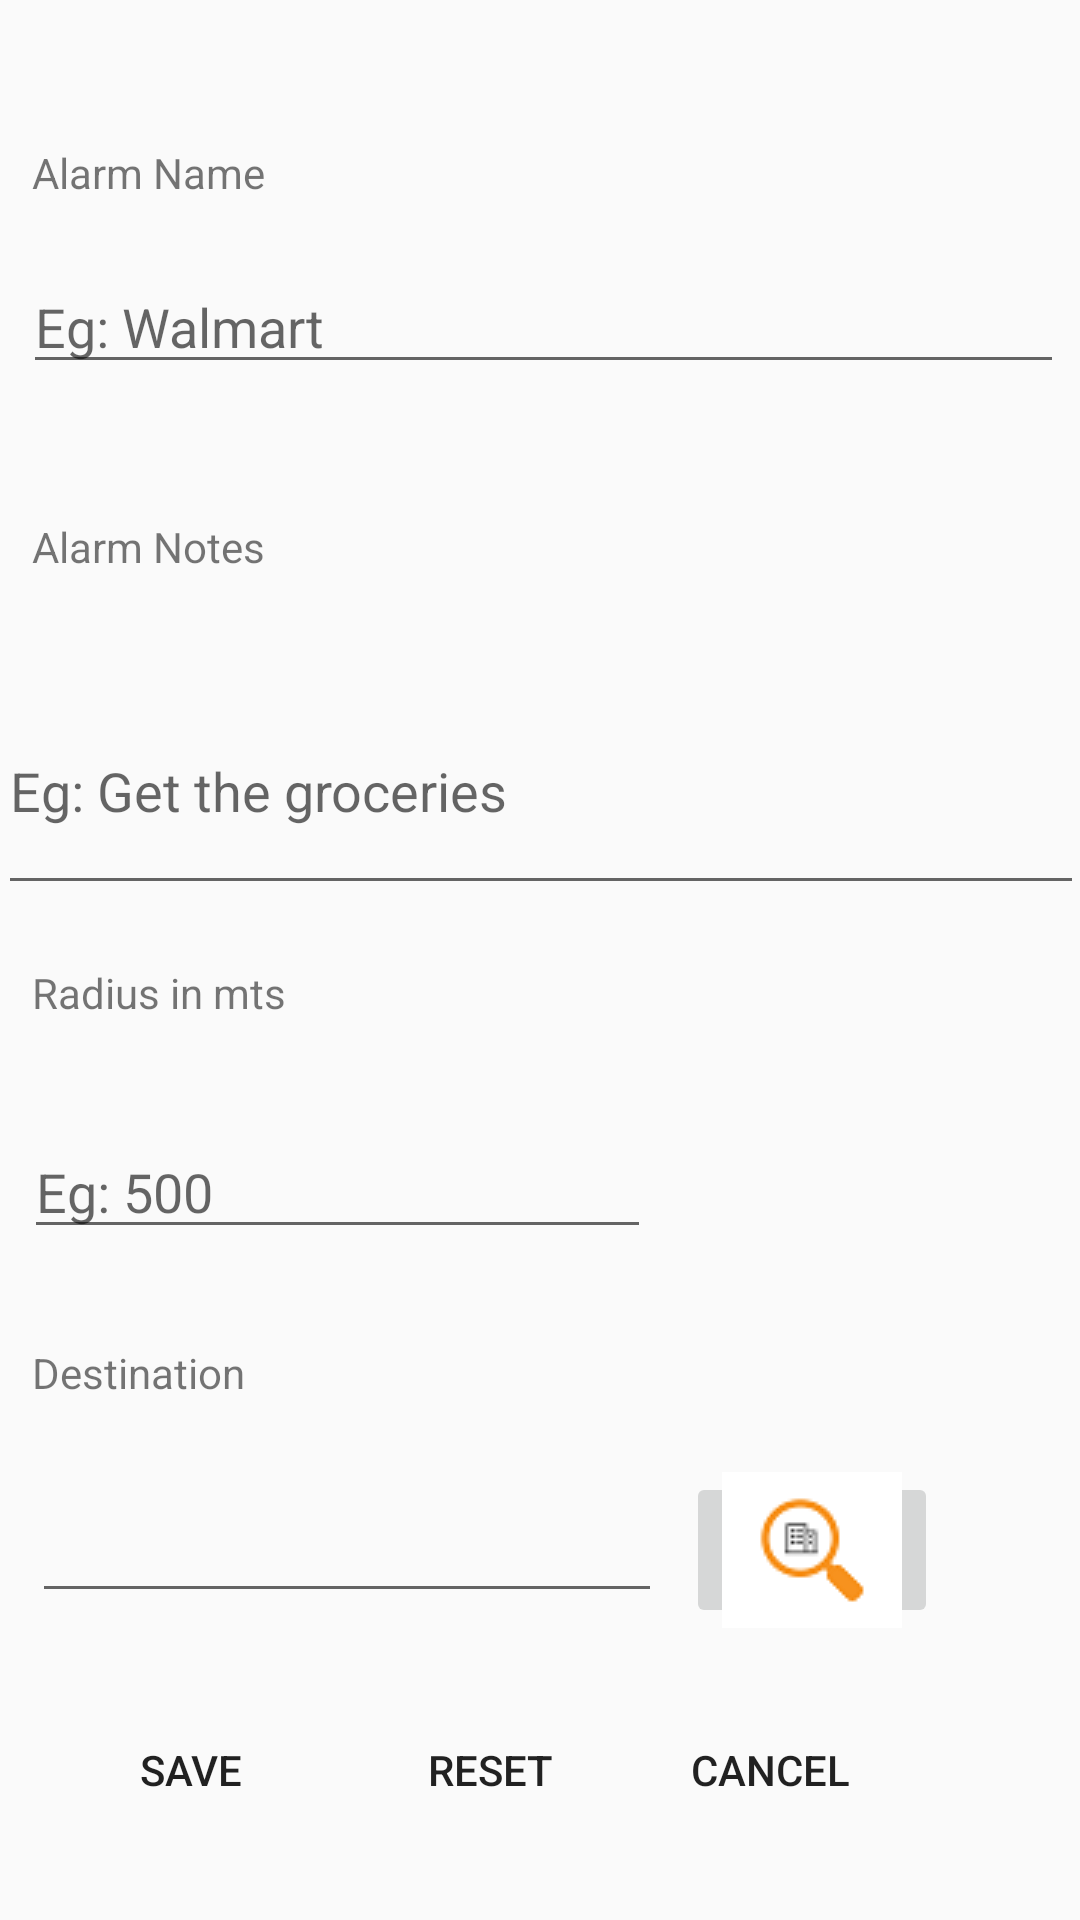

Point at icon controls on the screen. Image size 1080×1920, points as (x,y).
mapsearchbtn: (812,1550)
